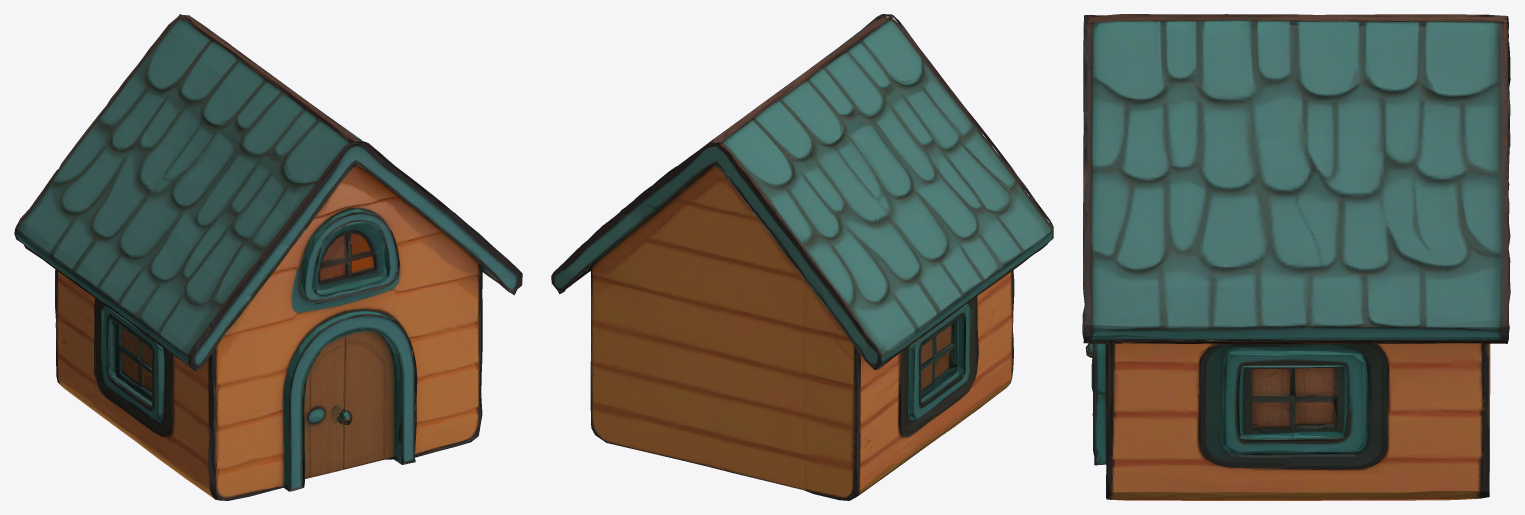
The model's file is Blue_Cozy_Cottage_0514185837_texture.fbx.
The picture shows the model from 3 angles, left to right: view 1: azimuth 30°, elevation 25°; view 2: azimuth 150°, elevation 25°; view 3: azimuth 270°, elevation 25°; orthographic projection. The views are drawn at different scales.
Parts seen in each view (by area): view 1: temp; view 2: temp; view 3: temp.
Boxes of the visible parts, x1,y1,x2,y2 form: temp: (14,14,522,500); temp: (551,14,1053,500); temp: (1082,14,1510,500).
Bounding box in the file's own units: 194 × 190 × 178.
Materials: 1 (1 with a texture image).
